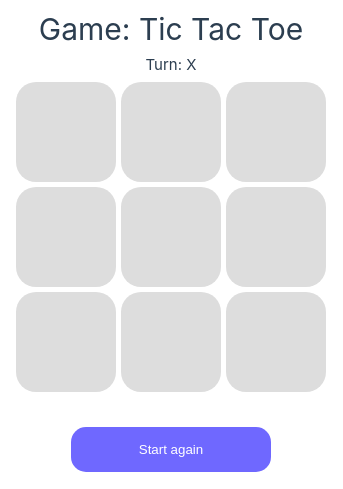
TicTacToe › switches player after move
Click the 1st element with class "cell" at (66, 132), box [16, 82, 116, 182]
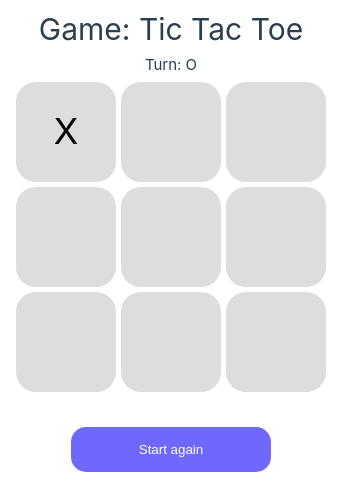
Click the 2nd element with class "cell" at (171, 132), box [121, 82, 221, 182]
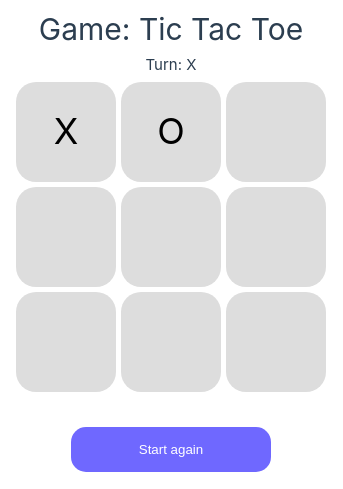
Expected: the text with class "cell" reads "O", [157, 109, 185, 153]
